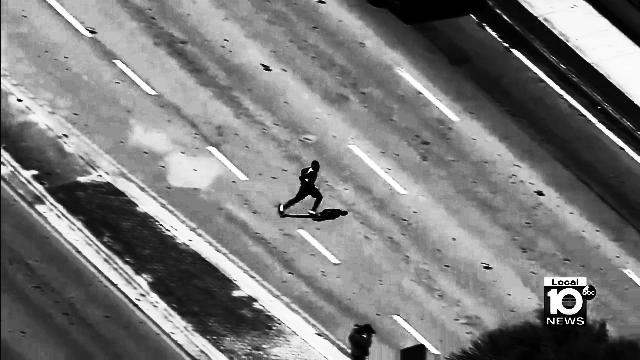berlari: (272, 156, 324, 224)
